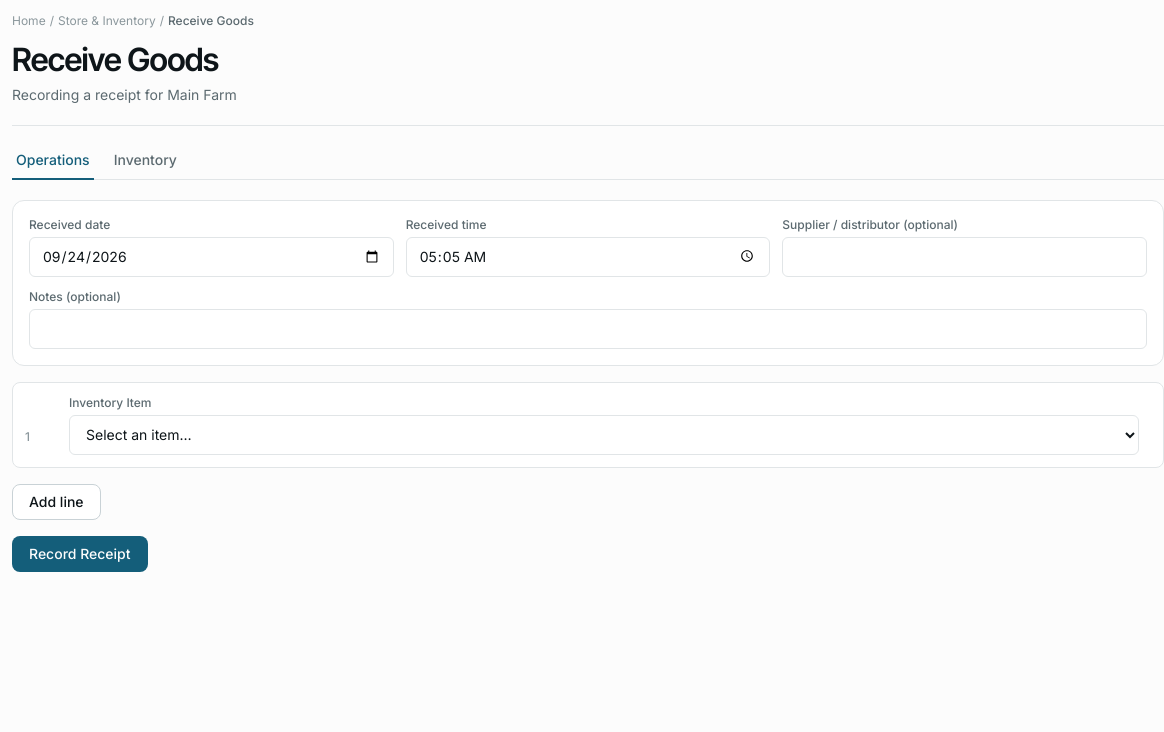
ReceiveGoodsPage › does not offer Lot details for a non-lot-tracked item
The width and height of the screenshot is (1164, 732).
Select "Hairnets" in the dropdown labelled "Inventory Item": [604, 435] box [69,415,1139,455]
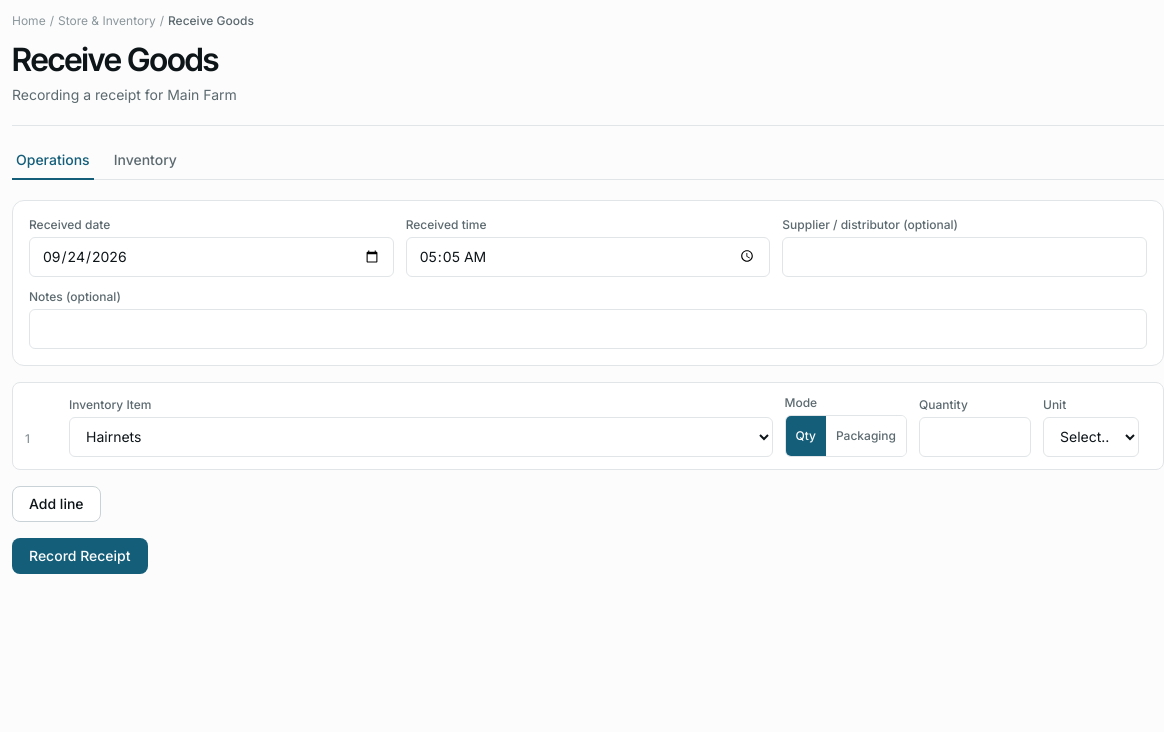
Result: the number field labelled "Quantity" is shown at [919,417,1031,457]
